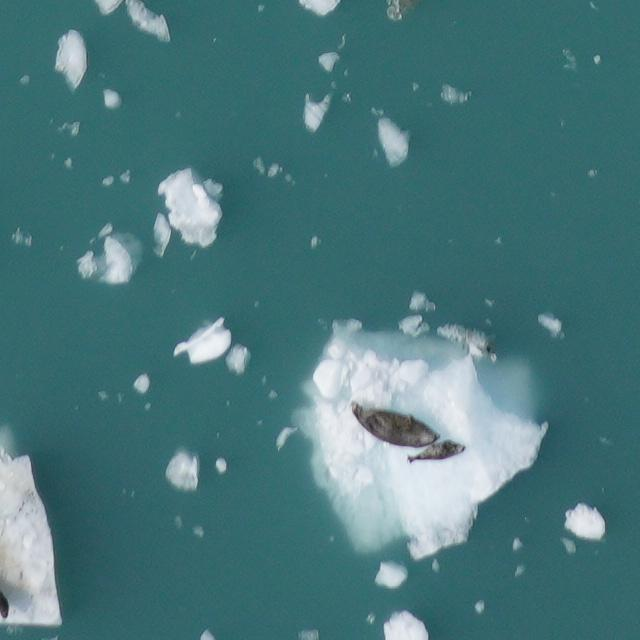seal: (352, 403, 439, 447), (408, 440, 464, 460)
